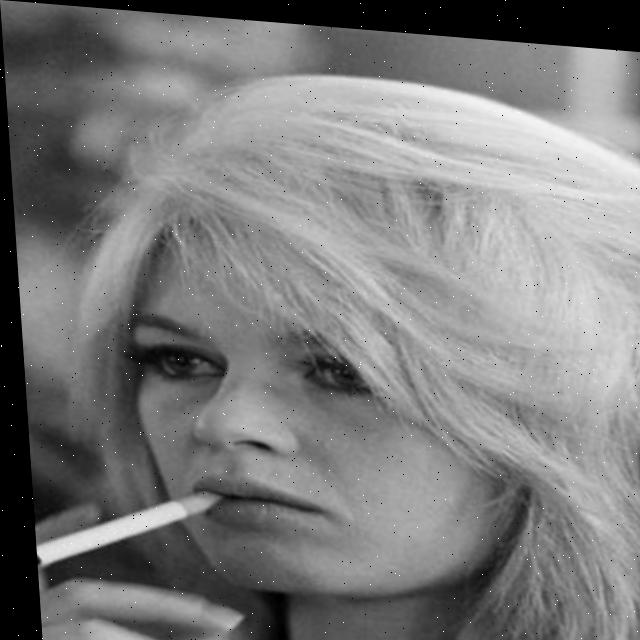cigarette: (25, 473, 217, 581)
